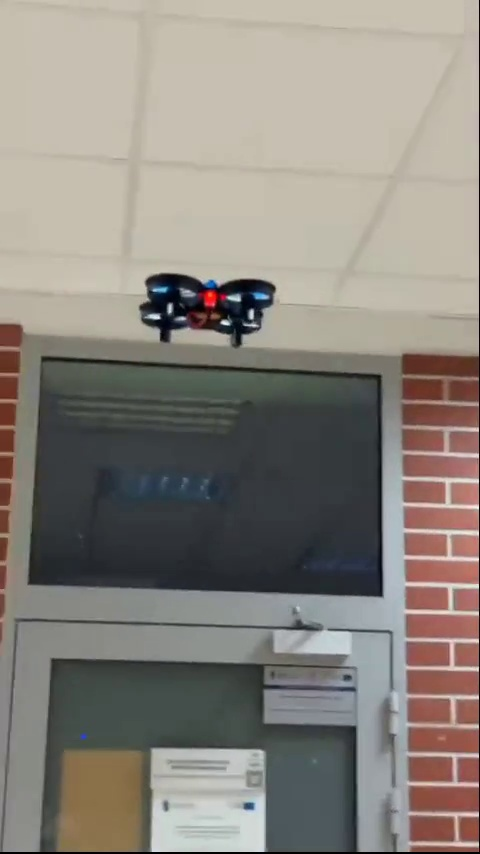drone: (136, 277, 271, 345)
